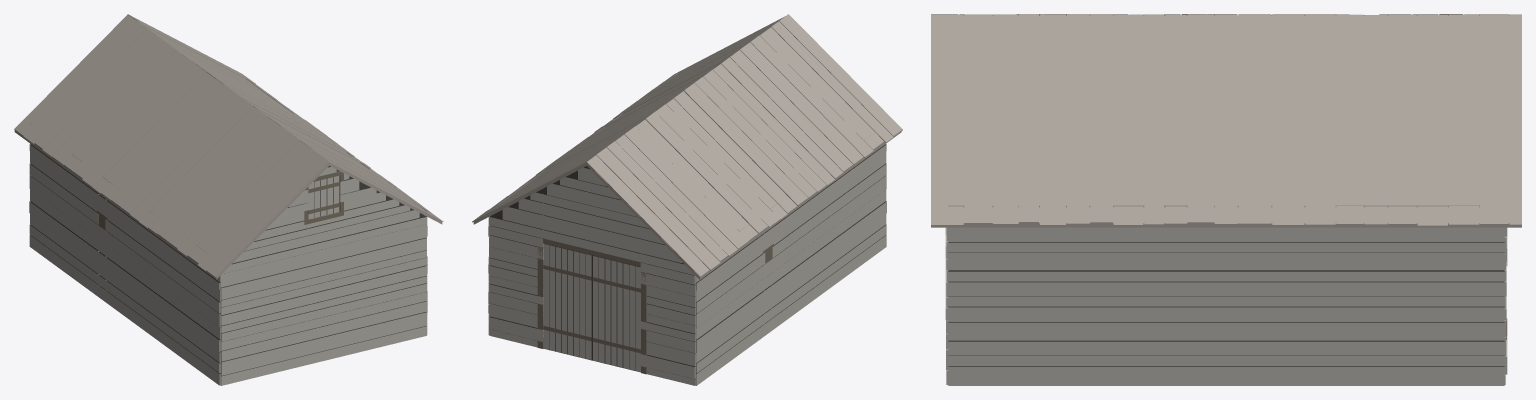
Rendered from recon_1835_west_009__inferred_1835.glb.
3 renders of one model, left to right at view 1: azimuth 30°, elevation 25°; view 2: azimuth 150°, elevation 25°; view 3: azimuth 270°, elevation 25°, orthographic. The views are drawn at different scales.
Visible parts, largest first — view 1: recon_1835_west_009__inferred_1835; view 2: recon_1835_west_009__inferred_1835; view 3: recon_1835_west_009__inferred_1835.
Boxes of the visible parts, x1,y1,x2,y2 form: recon_1835_west_009__inferred_1835: (14, 14, 443, 385); recon_1835_west_009__inferred_1835: (472, 14, 902, 385); recon_1835_west_009__inferred_1835: (931, 14, 1521, 385).
Bounding box in the file's own units: 6.81 × 5.76 × 10.36.
